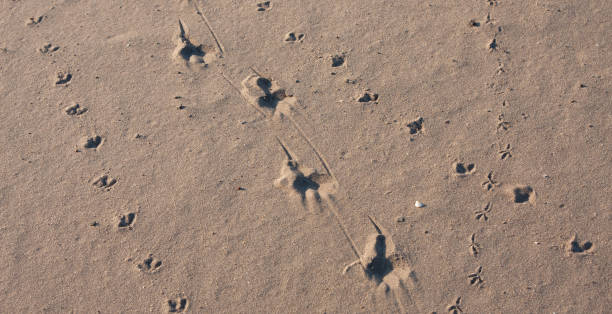animal_foot_print: (343, 216, 420, 312), (274, 139, 336, 210), (240, 74, 294, 116), (172, 19, 215, 65), (506, 185, 535, 203), (566, 235, 592, 253), (137, 254, 161, 272), (91, 174, 116, 190), (78, 135, 104, 150), (481, 171, 498, 190), (117, 212, 136, 229), (167, 297, 188, 312), (63, 102, 87, 115), (452, 162, 474, 176), (475, 202, 491, 221), (468, 266, 483, 286), (406, 117, 423, 133), (356, 90, 378, 102), (496, 114, 511, 131), (469, 233, 480, 256), (447, 297, 462, 313), (54, 71, 71, 85), (284, 32, 304, 42), (39, 43, 59, 53), (498, 144, 511, 159), (25, 16, 44, 25), (331, 54, 344, 66), (256, 1, 271, 10)
